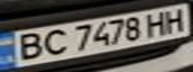4: (90, 19, 115, 47)
7: (69, 21, 93, 53), (106, 16, 127, 45)
8: (124, 14, 148, 43)
B: (9, 29, 48, 62)
C: (36, 27, 72, 57)
H: (157, 6, 193, 34), (139, 9, 172, 37)
